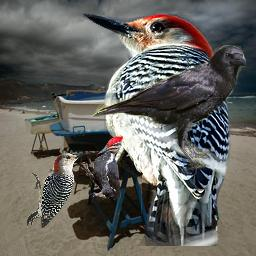Crow: (88, 45, 246, 170)
Woodpecker: (73, 0, 239, 246), (27, 152, 87, 228), (81, 136, 123, 200)
